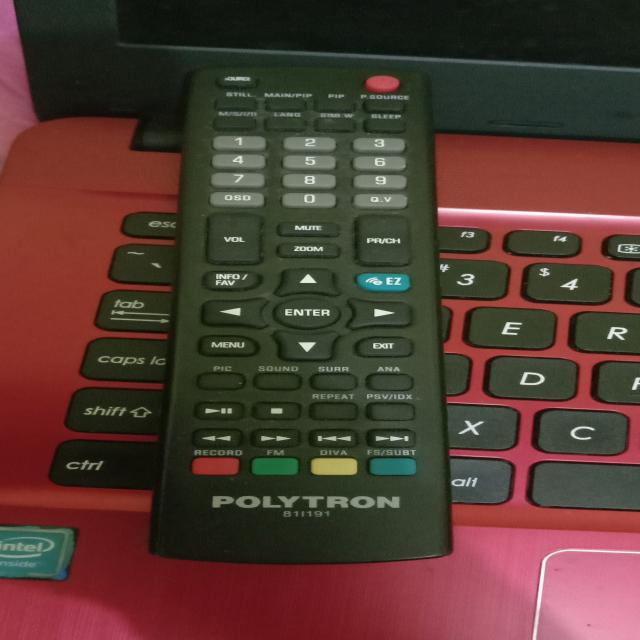remote: (138, 62, 466, 577)
